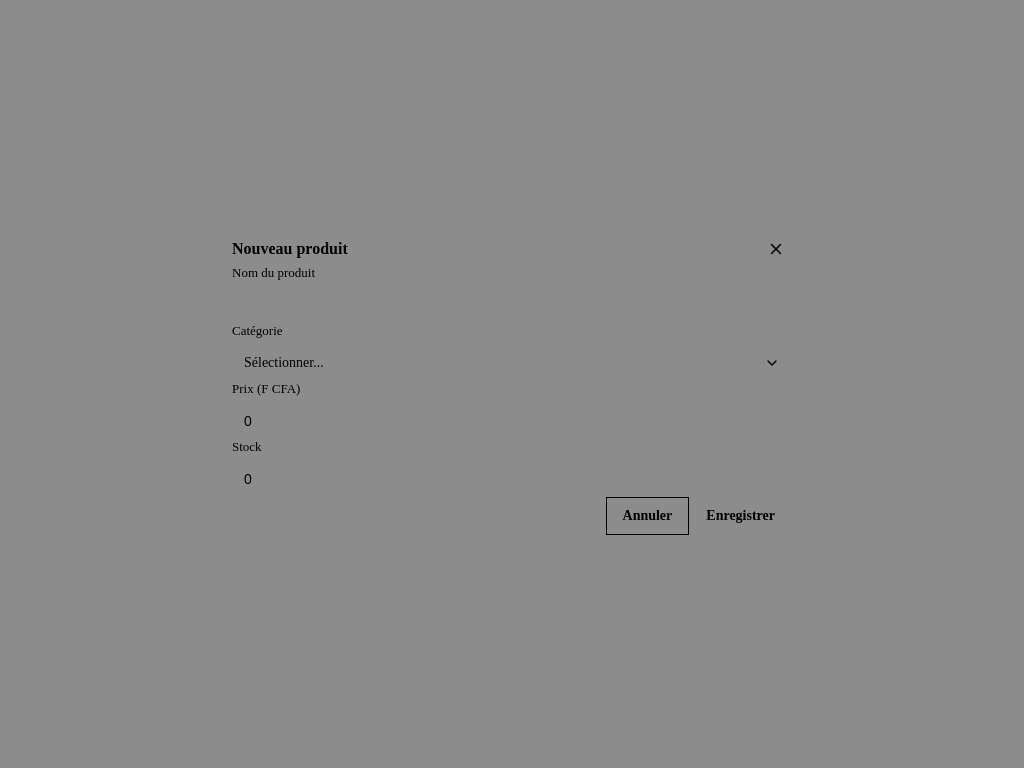
Test: ProductFormModal › affiche les erreurs de validation quand le formulaire est vide
Step 1. Click the button "Enregistrer" → (741, 516), box [689,497,792,535]
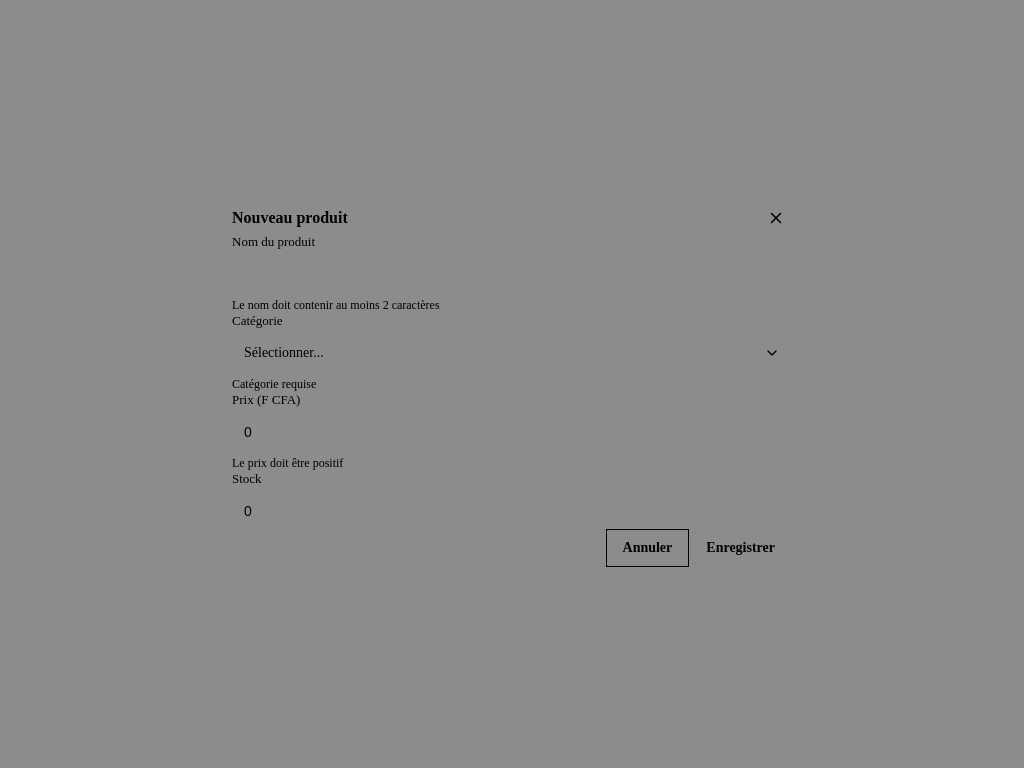
Check: the text "Le nom doit contenir au moins 2 caractères" is shown, box [232,298,440,312]
Check: the text "Catégorie requise" is shown, box [232,376,316,390]
